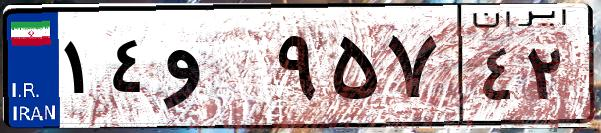1: (57, 26, 110, 100)
2: (525, 38, 570, 115)
4: (475, 38, 525, 113), (110, 28, 158, 98)
5: (330, 28, 385, 110)
7: (385, 28, 445, 110)
9: (270, 28, 330, 110)
و: (158, 20, 270, 120)
